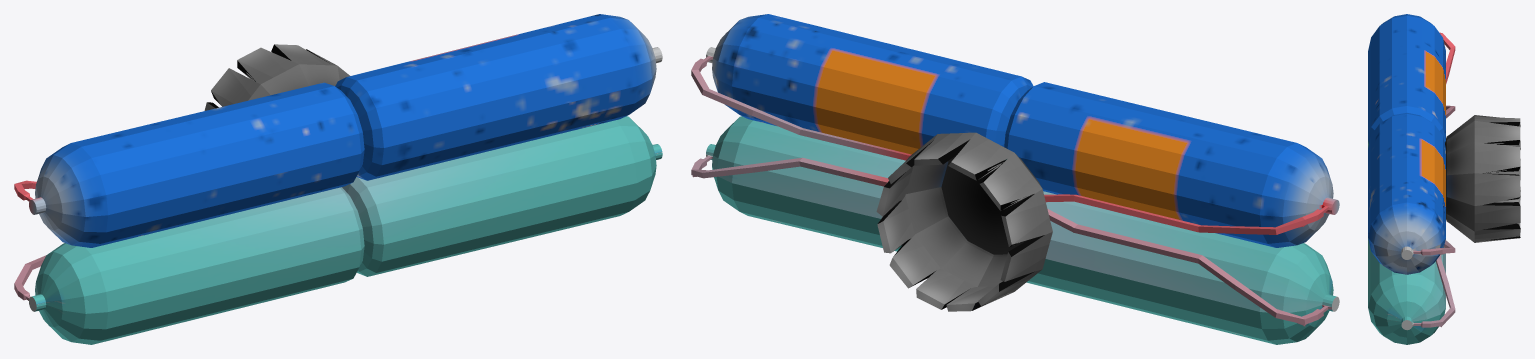
Rendered from Air Thruster.fbx.
The picture shows the model from 3 angles, left to right: view 1: azimuth 30°, elevation 25°; view 2: azimuth 150°, elevation 25°; view 3: azimuth 270°, elevation 25°; orthographic projection. The views are drawn at different scales.
Visible parts, largest first — view 1: Cylinder; view 2: Cylinder; view 3: Cylinder.
Part boxes in pixels (x1,y1,x2,y2): Cylinder: (14, 14, 662, 344); Cylinder: (691, 14, 1339, 344); Cylinder: (1368, 14, 1520, 344).
Bounding box in the file's own units: 2.28 × 0.6778 × 0.6667.
